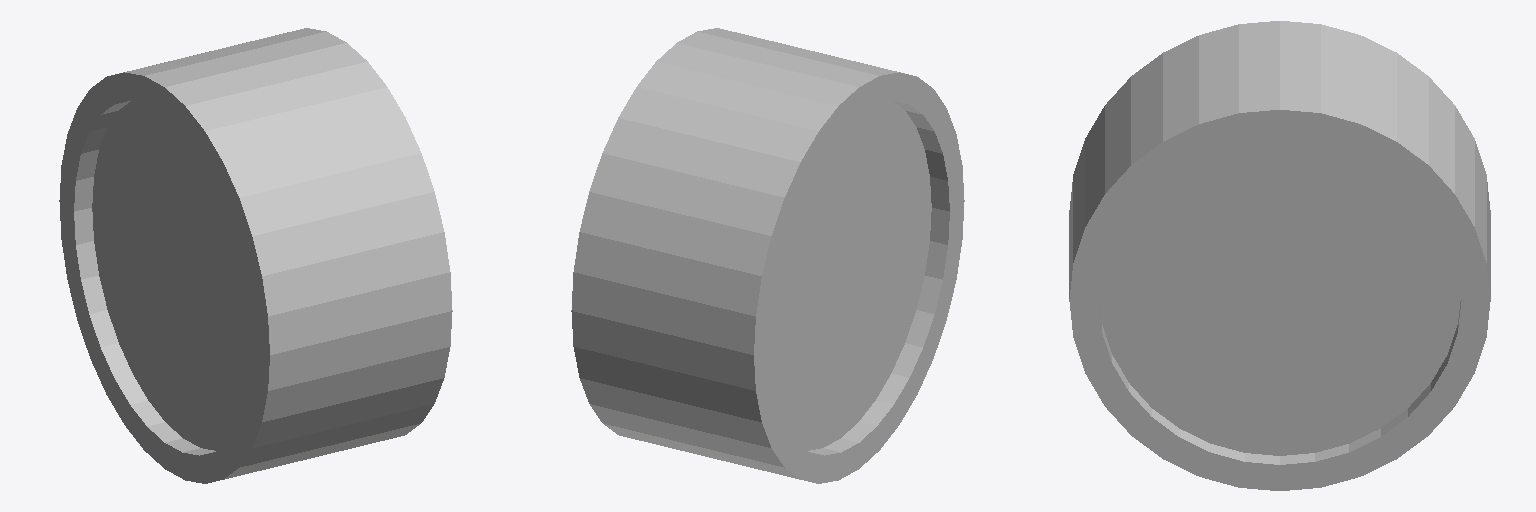
File: Coin.obj
The picture shows the model from 3 angles: view 1: azimuth 30°, elevation 25°; view 2: azimuth 150°, elevation 25°; view 3: azimuth 270°, elevation 25°; orthographic projection.
Visible parts, largest first — view 1: Cylinder; view 2: Cylinder; view 3: Cylinder.
Boxes of the visible parts, <box> form: Cylinder: <box>59,28,452,483</box>; Cylinder: <box>571,28,964,483</box>; Cylinder: <box>1069,21,1490,490</box>.
Bounding box in the file's own units: 1 × 2 × 2.